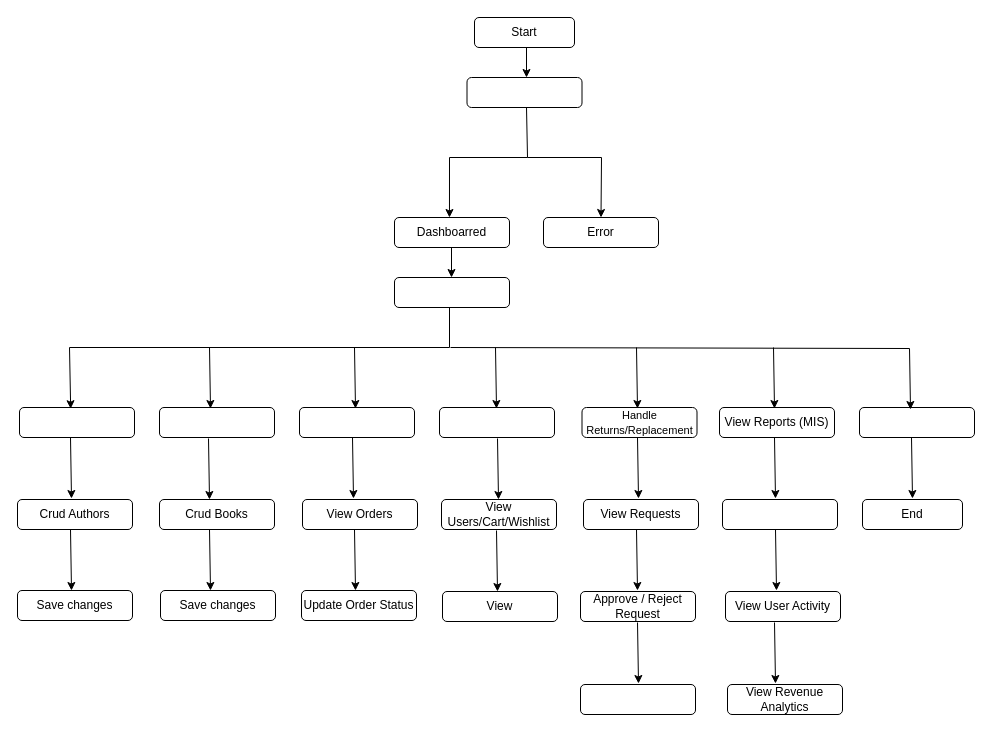
Image size: 992x732. Some labels were removed from this diagram. Here are the shapes that lost their labels. From the top down, the centre of each, then its label:
At (524,92): "Login Page".
At (452,292): "Select Action".
At (76,422): "Manage Authors".
At (216,422): "Manage Books".
At (356,422): "Manage Orders".
At (496,422): "View Details".
At (916,422): "Logout".
At (780,514): "View Sales Report".
At (638,699): "Process Refund (if applicable)".
